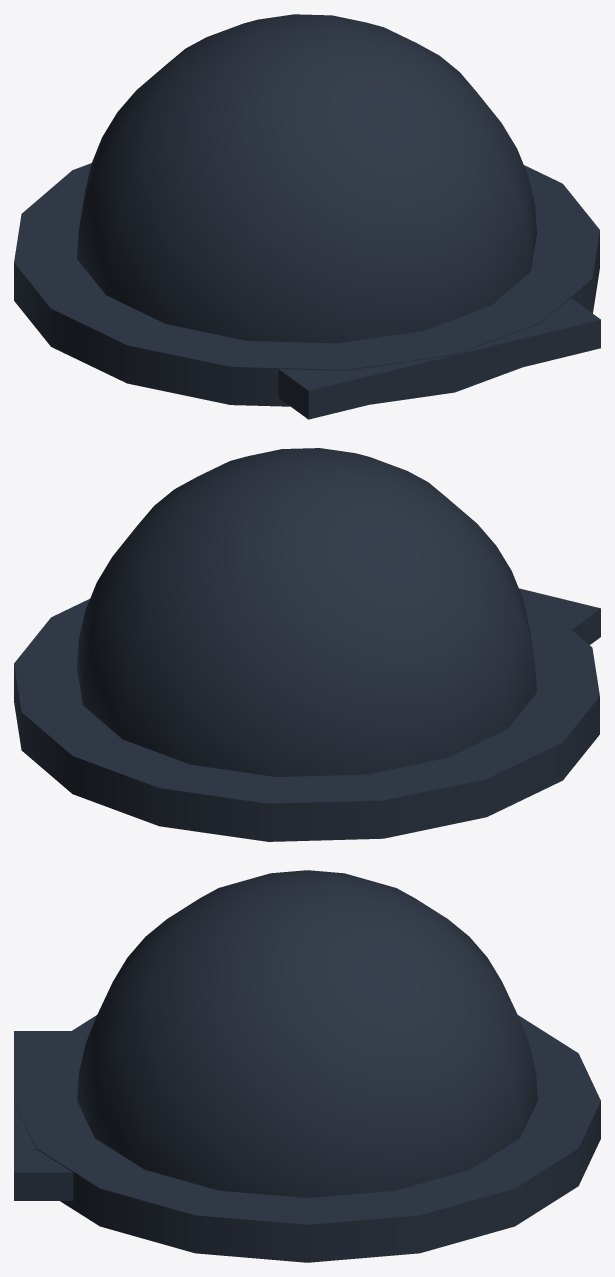
Rendered from prop-cap.glb.
3 views of the same model, one above another, from view 1: azimuth 30°, elevation 25°; view 2: azimuth 150°, elevation 25°; view 3: azimuth 270°, elevation 25° (orthographic).
Parts seen in each view (by area): view 1: propVisual; view 2: propVisual; view 3: propVisual.
Boxes of the visible parts, x1=… form: propVisual: x1=14, y1=14, x2=600, y2=419; propVisual: x1=14, y1=448, x2=600, y2=841; propVisual: x1=14, y1=870, x2=600, y2=1262.
Bounding box in the file's own units: 0.28 × 0.13 × 0.28.
